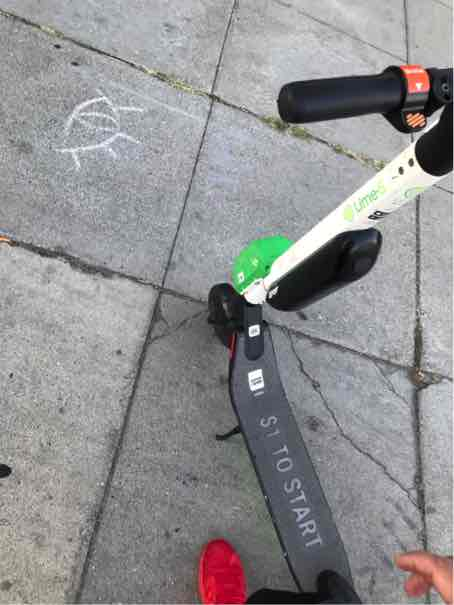scooter: (195, 56, 454, 605)
